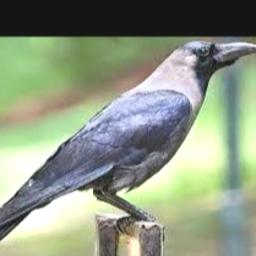Crow: (0, 41, 256, 256)
